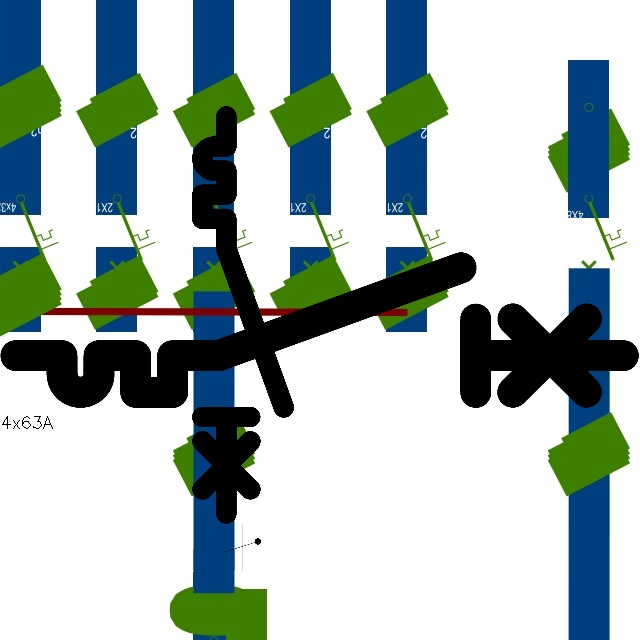interruptor_termomagnetico: (0, 252, 638, 408), (192, 106, 294, 523)
